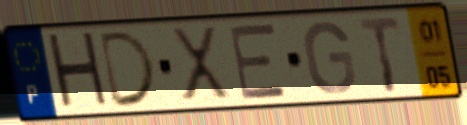D: (97, 28, 161, 111)
E: (226, 21, 291, 103)
G: (301, 18, 359, 97)
H: (43, 28, 114, 114)
T: (356, 14, 404, 95)
X: (168, 23, 234, 104)
